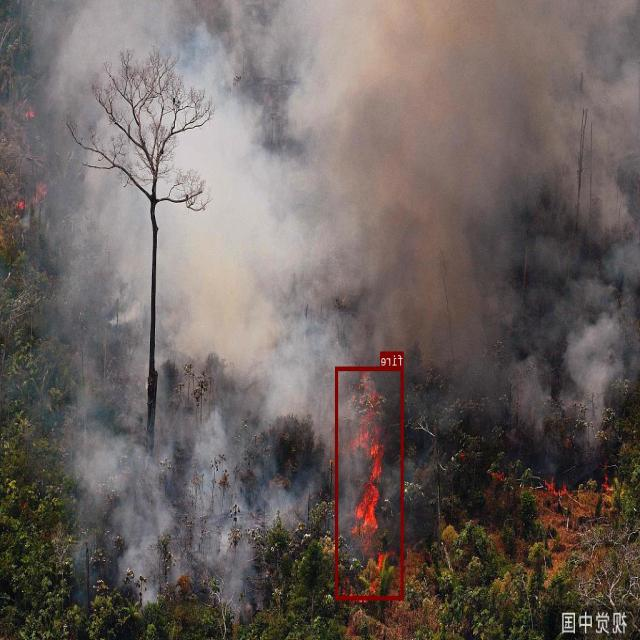fire: (336, 366, 404, 599)
